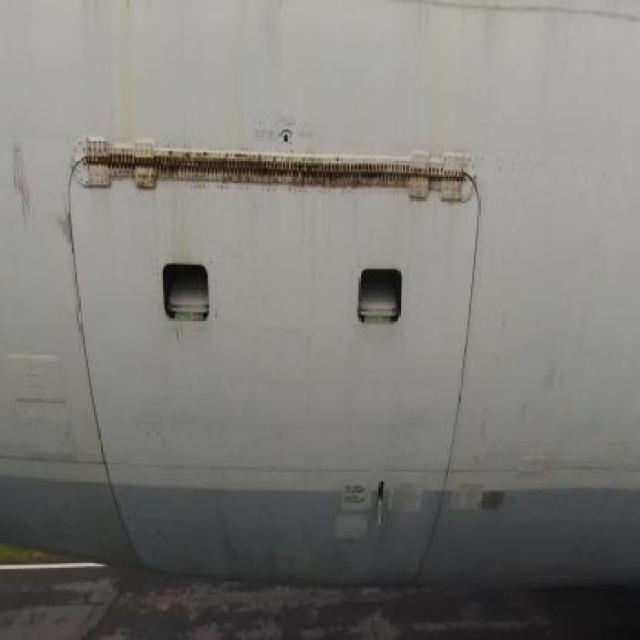Rust: (77, 122, 486, 205), (12, 123, 36, 249)
Scartch: (53, 188, 75, 346)
